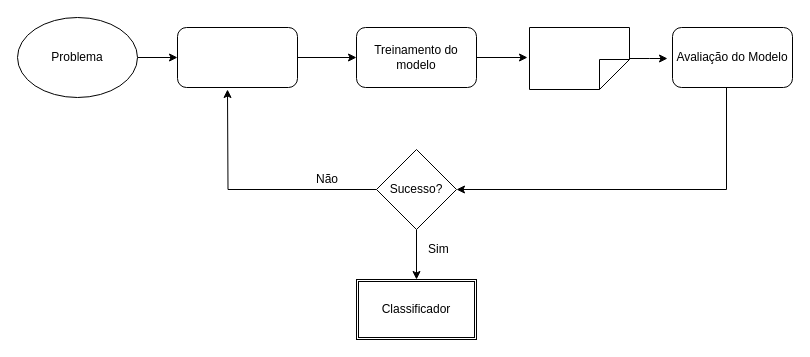
The diagram is 810 pixels wide and 357 high, and some of its shapes have lost their labels. The shapes that lost their labels are listed below. From the top down, each one's box as (x1, y1, x2, y2) in pixels, then its label:
(176, 26, 298, 88): Seleção dos dados
(528, 26, 630, 90): Modelo
